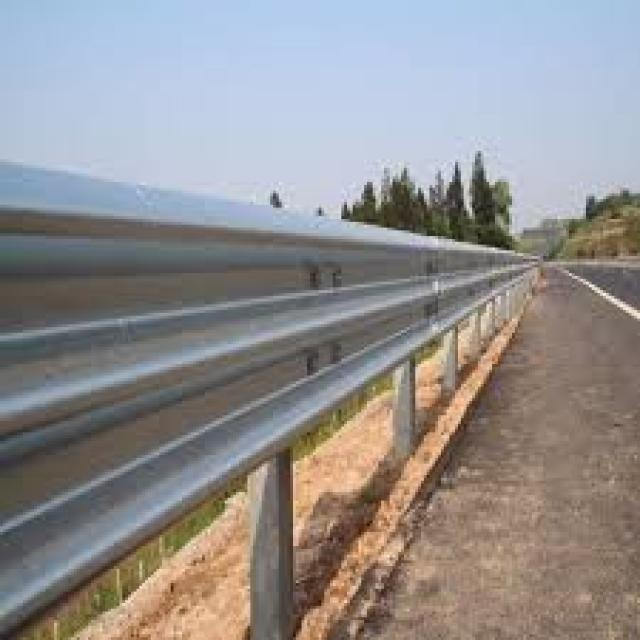Guard rail: (1, 162, 532, 634)
